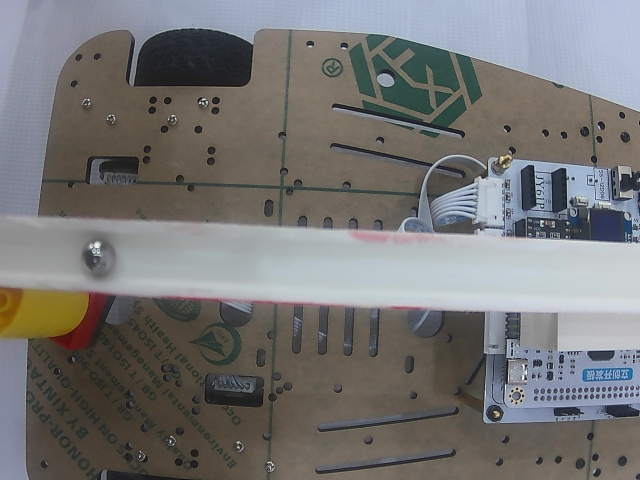steelball: (79, 238, 116, 276)
